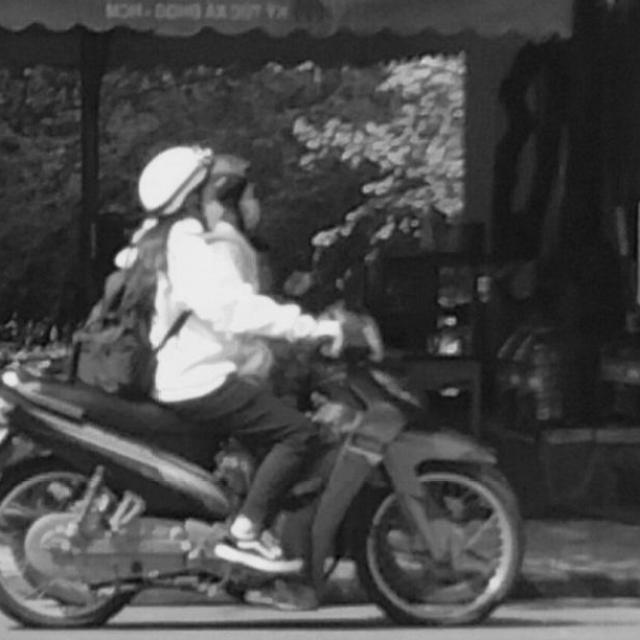Helmet: (136, 144, 220, 228), (200, 146, 264, 235)
